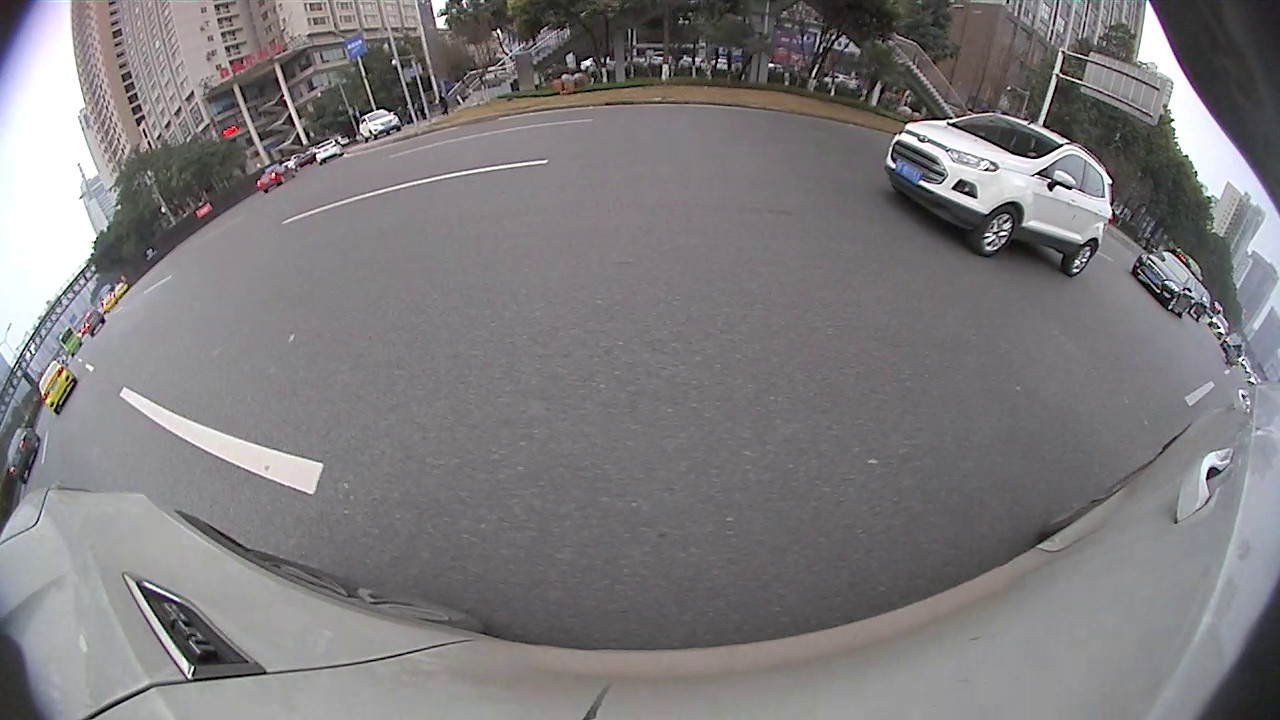car: (884, 111, 1113, 280), (1130, 252, 1194, 317), (37, 360, 79, 416), (6, 425, 42, 486), (358, 107, 404, 143)
front: (970, 212, 1019, 256)
rear: (1063, 241, 1099, 275)
